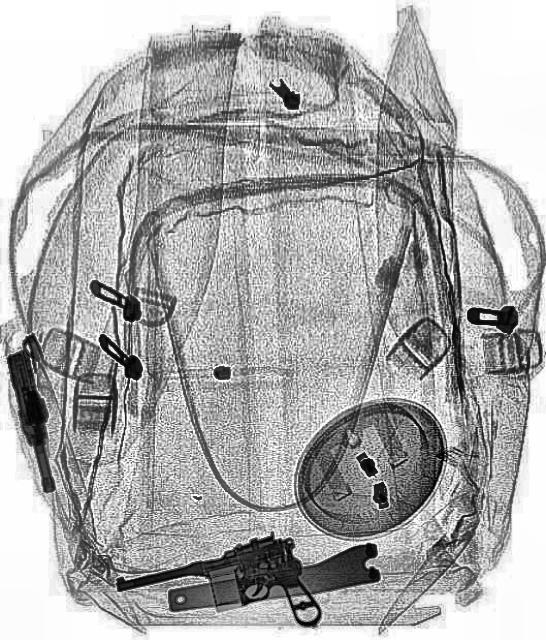Gun: (115, 530, 307, 634), (3, 348, 64, 494)
